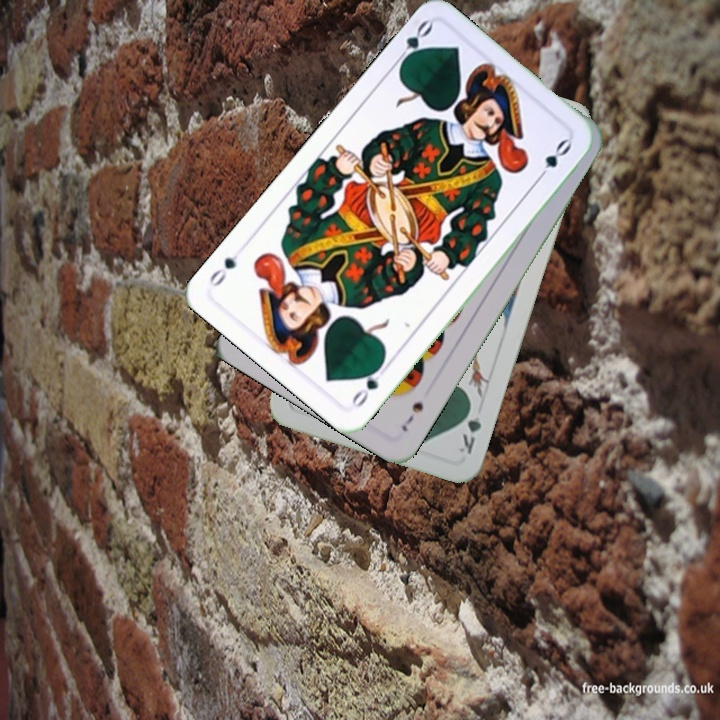GK: (455, 399, 484, 457)
GO: (390, 16, 435, 70), (348, 358, 391, 411)
S7: (397, 397, 427, 434)
